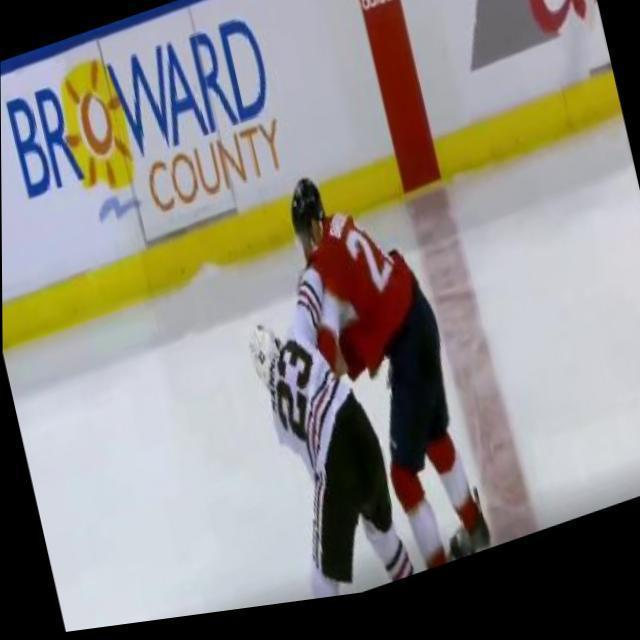fight: (212, 138, 494, 618)
